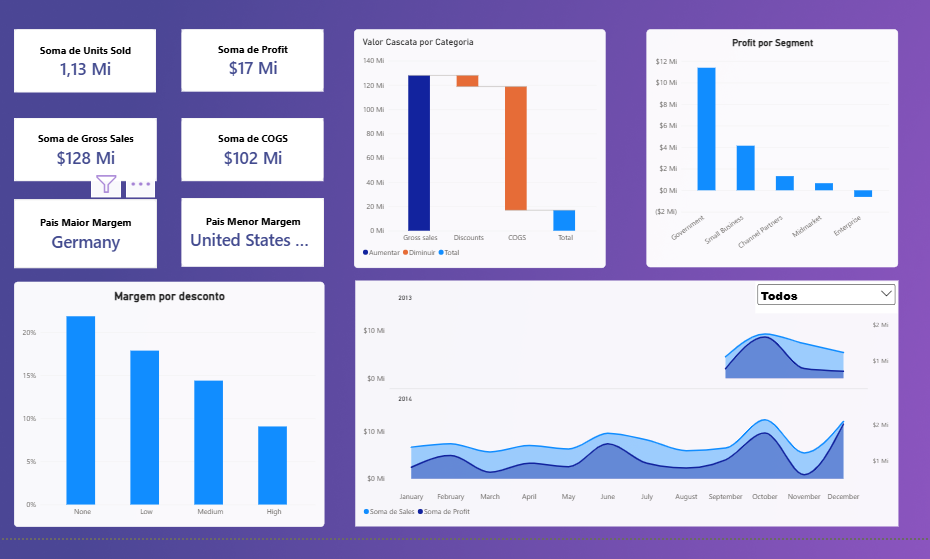

The page's visual inventory and layout, read from the dashboard file:
{"tool":"powerbi","page":{"name":"Executiva","canvas":[1920,1080],"ordinal":0},"visuals":[{"type":"cardVisual","fields":{"Data":["Sum(financials.Units Sold)"]},"box":[48.9,63.3,284,126],"z":0},{"type":"cardVisual","fields":{"Data":["Sum(financials.COGS)"]},"box":[385.5,238.9,284.1,126.7],"z":1000},{"type":"cardVisual","fields":{"Data":["Sum(financials.Profit)"]},"box":[385.5,63.3,284.1,124.9],"z":2000},{"type":"cardVisual","fields":{"Data":["Sum(financials.Gross Sales)"]},"box":[48.9,238.9,285.9,126.7],"z":3000},{"type":"waterfallChart","fields":{"Category":["Cascata.Categoria"],"Y":["Cascata.Valor Cascata"]},"box":[731.1,61.5,503.1,477.8],"z":4000},{"type":"lineChart","fields":{"Category":["financials.Month Name"],"Rows":["financials.Year"],"Y":["Sum(financials.Sales)"],"Y2":["Sum(financials.Profit)"]},"box":[732,566,1086,492],"z":5000},{"type":"slicer","fields":{"Values":["financials.Country","financials.Month Number","financials.Product"]},"box":[1532.8,568.2,285,63.3],"z":6000},{"type":"columnChart","title":"Profit por Segment","fields":{"Category":["financials.Segment"],"Y":["Sum(financials.Profit)"]},"box":[1313.8,63.3,503.1,475.9],"z":7000},{"type":"columnChart","title":"Margem por desconto","fields":{"Category":["financials.Discount Band"],"Y":["financials.Margem Real"]},"box":[48.9,568.2,620.7,490.4],"z":8000},{"type":"cardVisual","fields":{"Data":["Cascata.Pais Maior Margem"]},"box":[50,402.5,285,137.5],"z":9000},{"type":"cardVisual","fields":{"Data":["Cascata.Pais Menor Margem"]},"box":[385,400,285,137.5],"z":10000}]}

Visuals, with their boxes in screenshot pixels (x1, y1, x2, y2):
cardVisual - Sum(financials.Units Sold): x1=15 y1=29 x2=155 y2=91
cardVisual - Sum(financials.COGS): x1=181 y1=116 x2=322 y2=179
cardVisual - Sum(financials.Profit): x1=181 y1=29 x2=322 y2=91
cardVisual - Sum(financials.Gross Sales): x1=15 y1=116 x2=156 y2=179
waterfallChart - Cascata.Categoria x Cascata.Valor Cascata: x1=352 y1=28 x2=602 y2=265
lineChart - financials.Month Name x financials.Year: x1=353 y1=278 x2=891 y2=522
slicer - financials.Country x financials.Month Number: x1=749 y1=279 x2=891 y2=310
"Profit por Segment" columnChart: x1=641 y1=29 x2=890 y2=265
"Margem por desconto" columnChart: x1=15 y1=279 x2=322 y2=522
cardVisual - Cascata.Pais Maior Margem: x1=15 y1=197 x2=156 y2=265
cardVisual - Cascata.Pais Menor Margem: x1=181 y1=196 x2=322 y2=264
